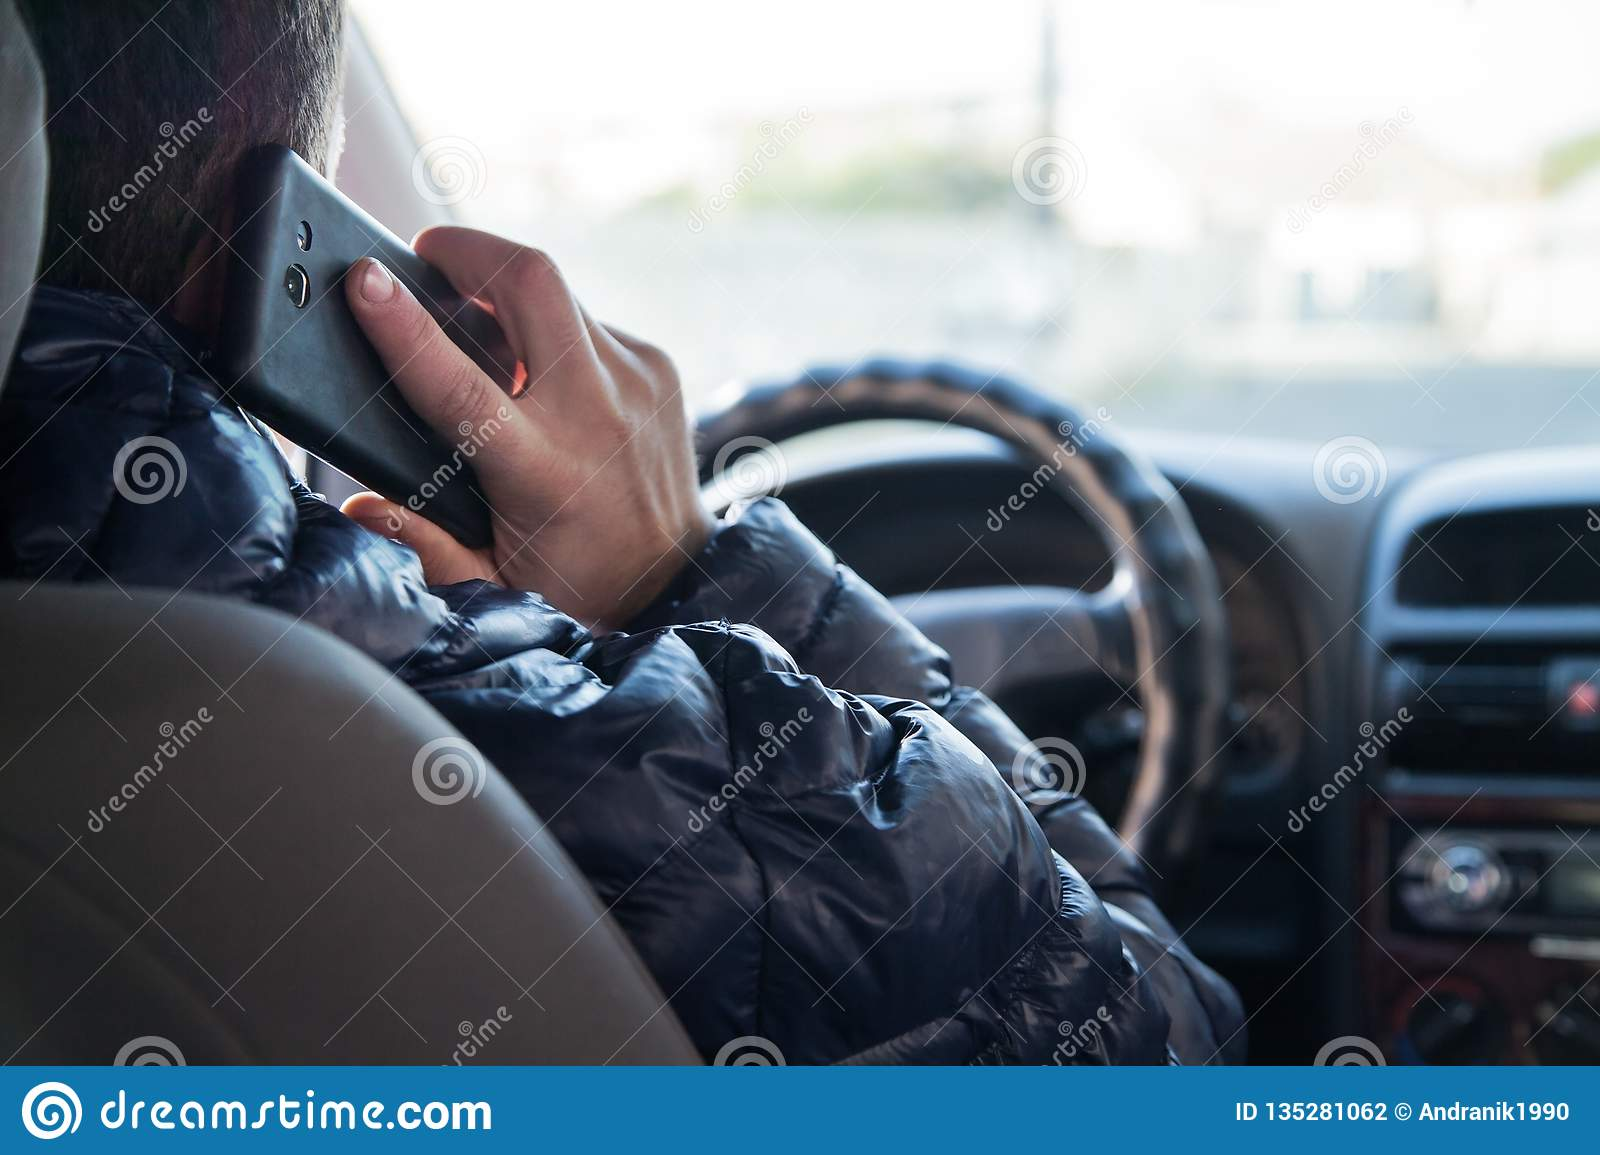phone: (219, 138, 530, 558)
